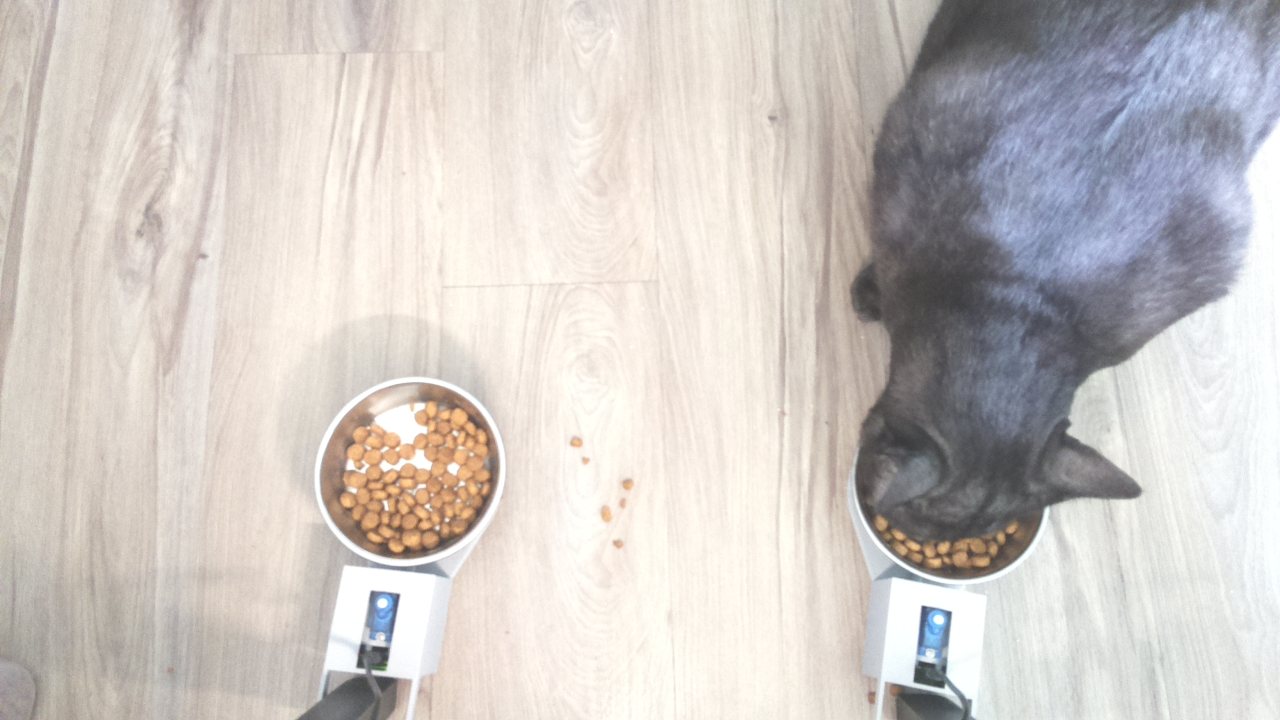open_bowl: (307, 373, 511, 569)
saki_eating: (841, 323, 1152, 589)
